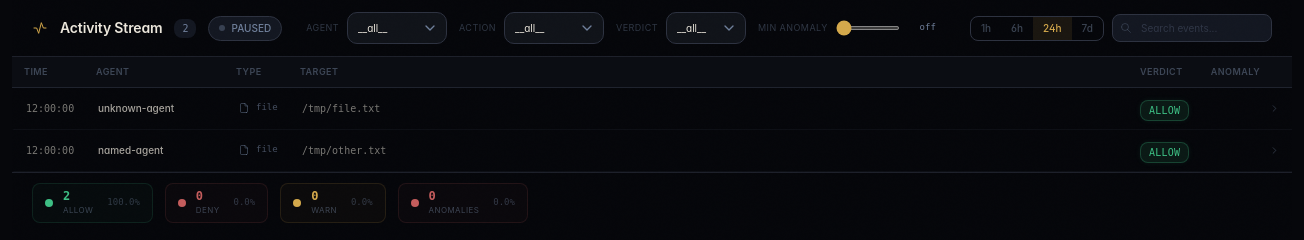
ActivityStream › stores the selected agent filter by agent id while showing the agent name
Expected: the text "unknown-agent" is shown, [98, 102, 174, 114]
Expected: the text "named-agent" is shown, [98, 144, 163, 156]
Click the dropdown with test id "activity-stream-agent-filter".
click(397, 28)  # box [347, 12, 447, 44]
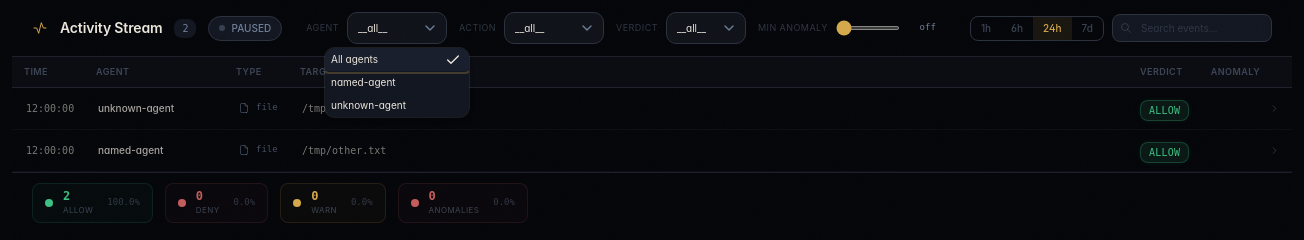
Click the option "unknown-agent".
click(368, 105)  # box [331, 99, 406, 111]
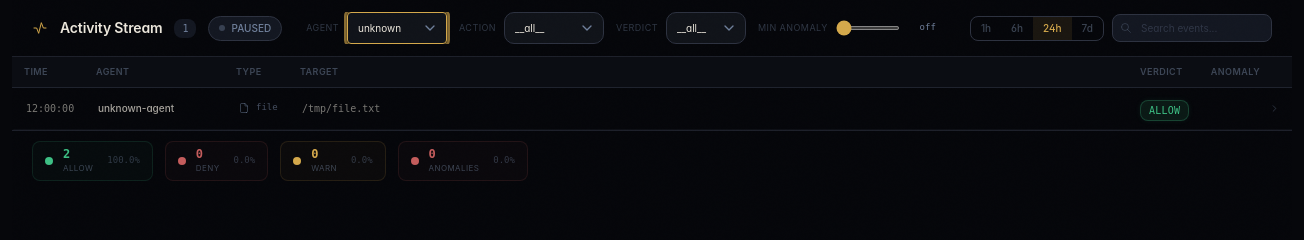
Expected: the text with test id "activity-stream-visible-count" reads "1", [182, 22, 188, 34]
